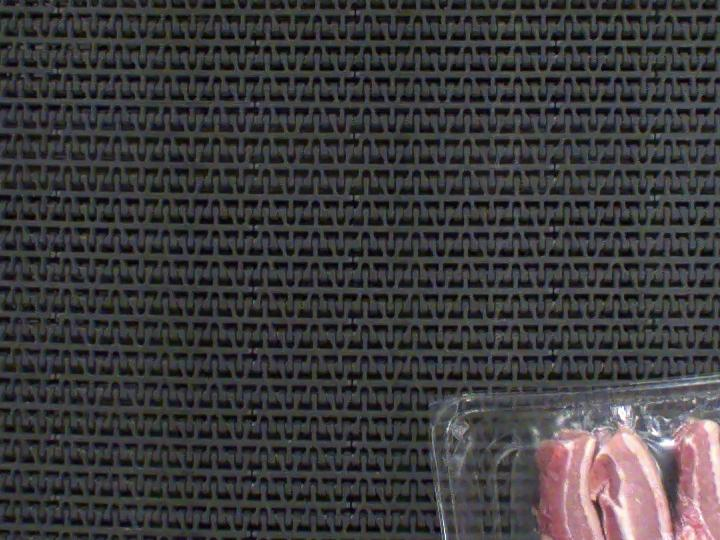unsealed: (438, 360, 720, 535)
